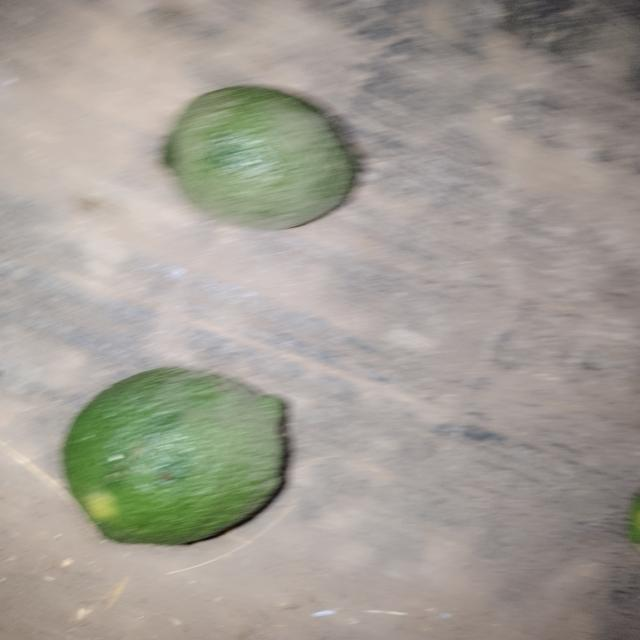Unripe: (47, 349, 314, 571), (162, 76, 375, 244)
